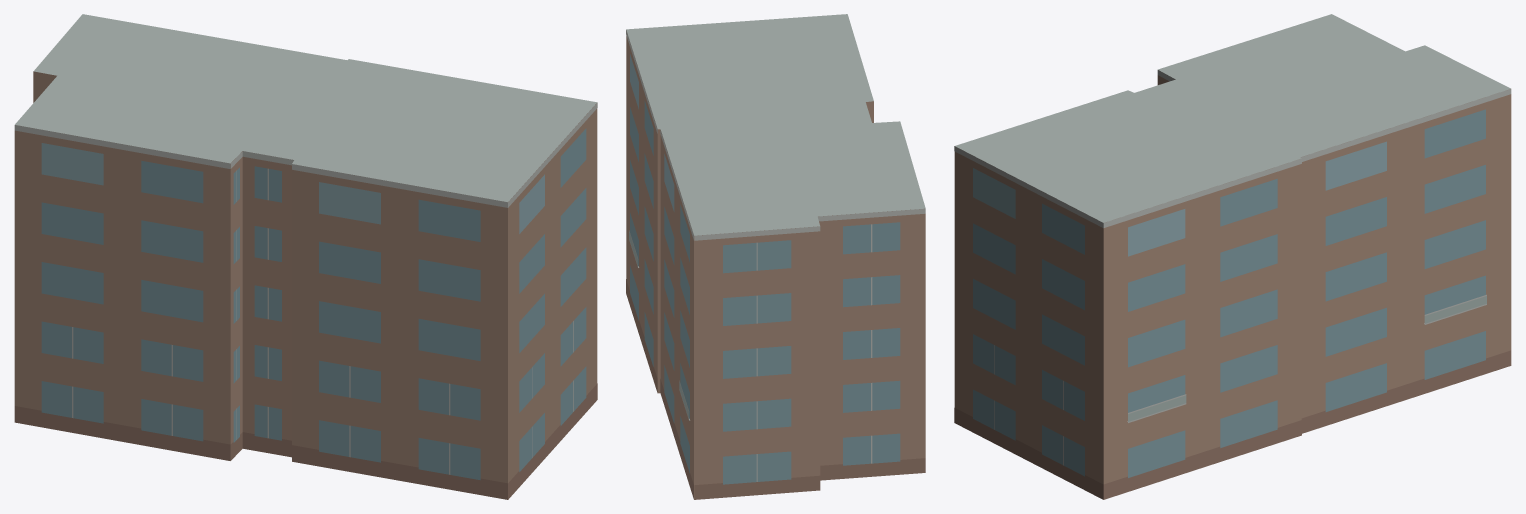
The model's file is survey-upis-32921292.glb.
The picture shows the model from 3 angles, left to right: view 1: azimuth 30°, elevation 25°; view 2: azimuth 150°, elevation 25°; view 3: azimuth 270°, elevation 25°; orthographic projection. The views are drawn at different scales.
Parts seen in each view (by area): view 1: survey-upis-32921292.tmp; view 2: survey-upis-32921292.tmp; view 3: survey-upis-32921292.tmp.
Boxes of the visible parts, <box> form: survey-upis-32921292.tmp: <box>14,14,597,499</box>; survey-upis-32921292.tmp: <box>626,14,925,499</box>; survey-upis-32921292.tmp: <box>954,14,1511,499</box>.
Bounding box in the file's own units: 20.56 × 12.7 × 23.15.
